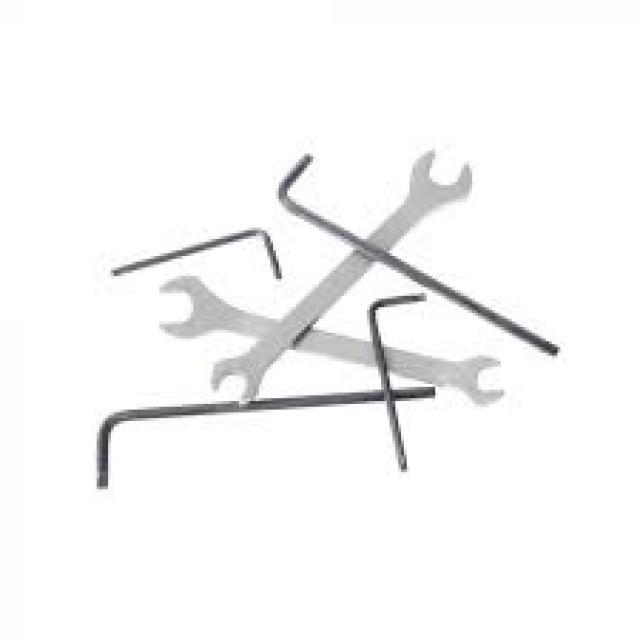wrench: (148, 270, 504, 407), (272, 144, 478, 347)
